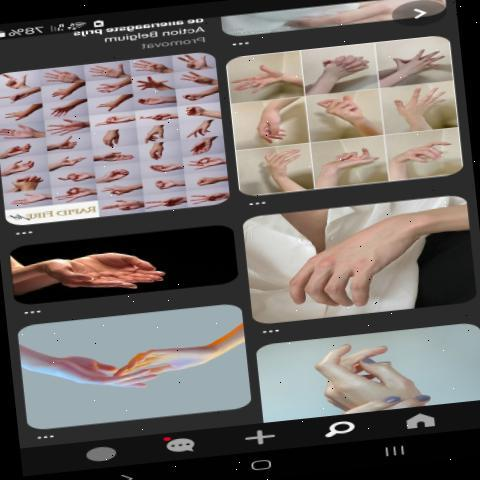Hands: (280, 208, 438, 316), (114, 325, 228, 400), (65, 242, 174, 288)
